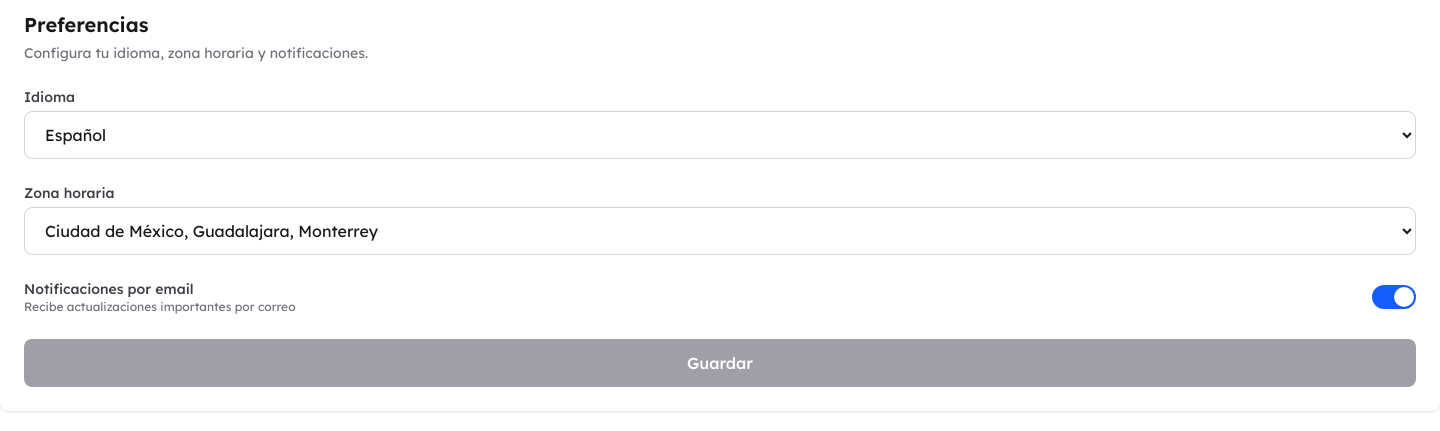
Test case: PreferencesPage › toggle notifications enables save button
This screenshot has width=1440, height=431.
Click the switch at (1394, 297), box [1372,285,1416,309]
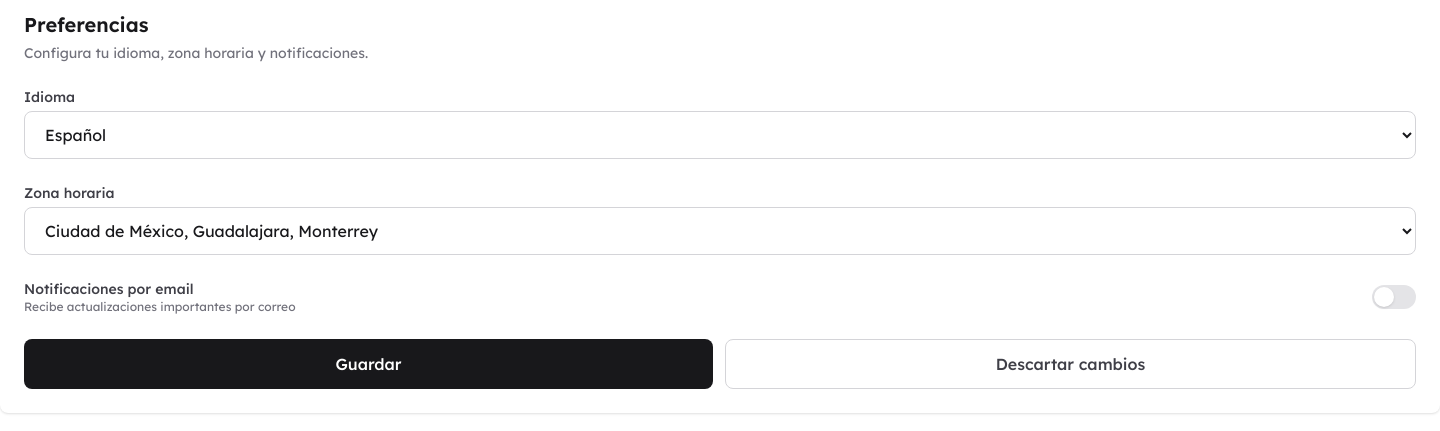
Now the button "Guardar" is enabled, box [24,339,713,389]
